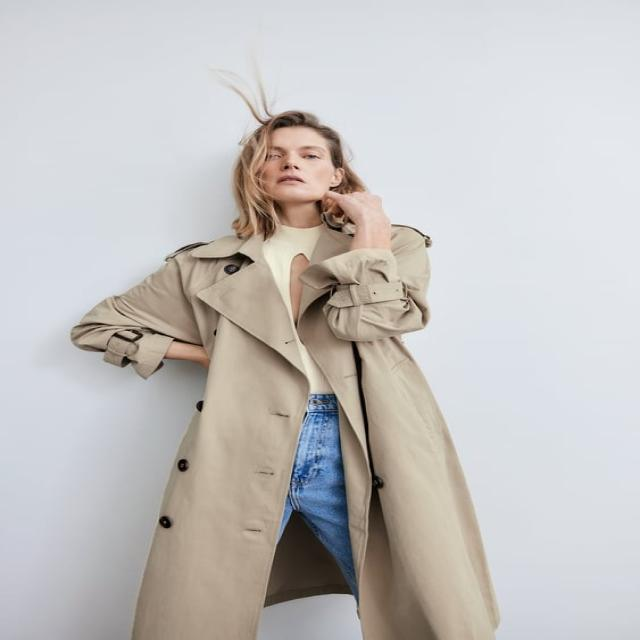coat: (69, 218, 504, 640)
trousers: (266, 393, 364, 640)
vest: (256, 219, 338, 403)
